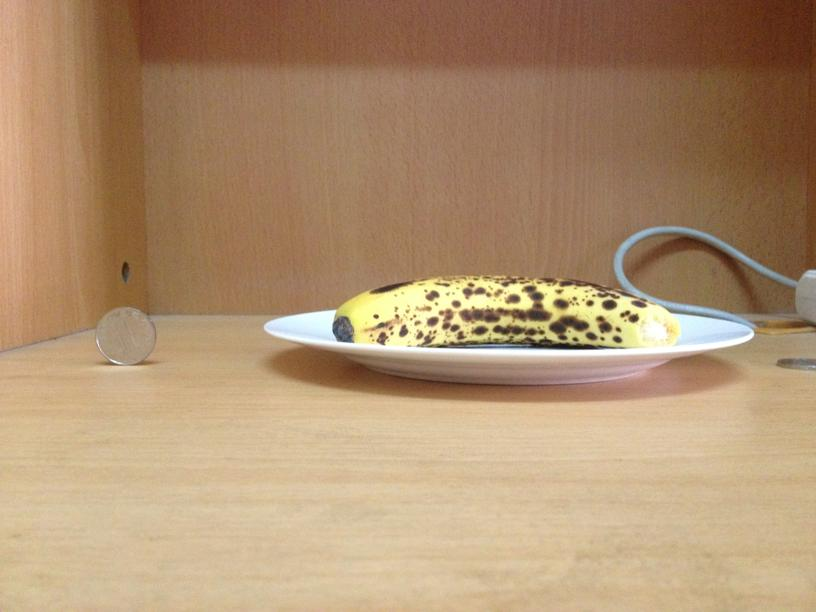banana: (332, 271, 671, 347)
coin: (92, 305, 156, 366)
